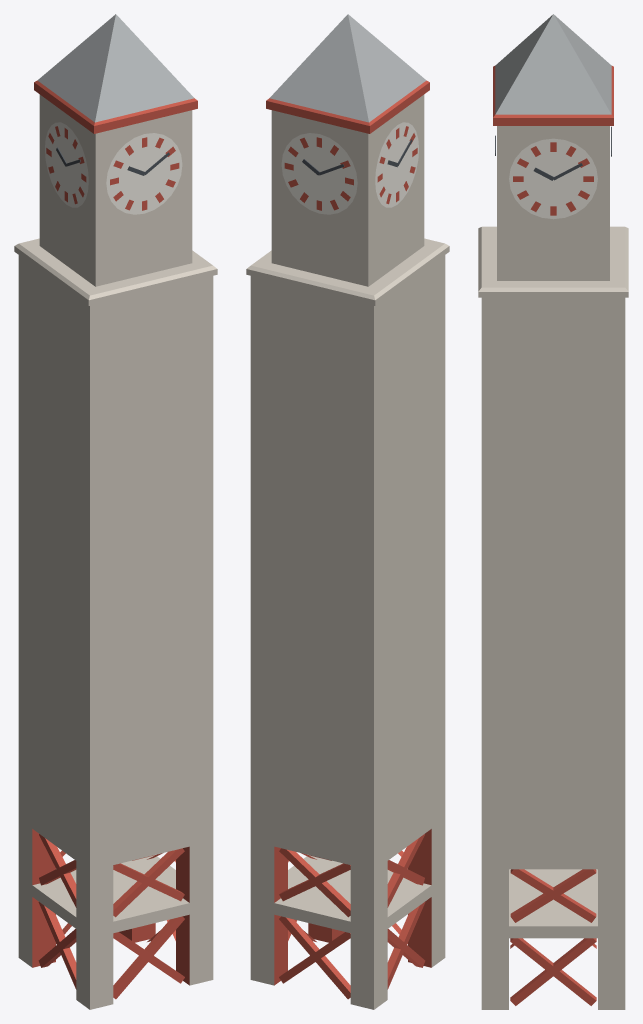
Rendered from sd-12th-imperial-clock-tower.glb.
The picture shows the model from 3 angles, left to right: view 1: azimuth 30°, elevation 25°; view 2: azimuth 150°, elevation 25°; view 3: azimuth 270°, elevation 25°; orthographic projection.
Parts seen in each view (by area): view 1: 12th & Imperial Transit Center clock tower; view 2: 12th & Imperial Transit Center clock tower; view 3: 12th & Imperial Transit Center clock tower.
Boxes of the visible parts, left/top/right/bottom form: 12th & Imperial Transit Center clock tower: left=14, top=14, right=217, bottom=1009; 12th & Imperial Transit Center clock tower: left=246, top=14, right=449, bottom=1009; 12th & Imperial Transit Center clock tower: left=478, top=14, right=628, bottom=1009.
Bounding box in the file's own units: 9.3 × 65.9 × 9.3.
